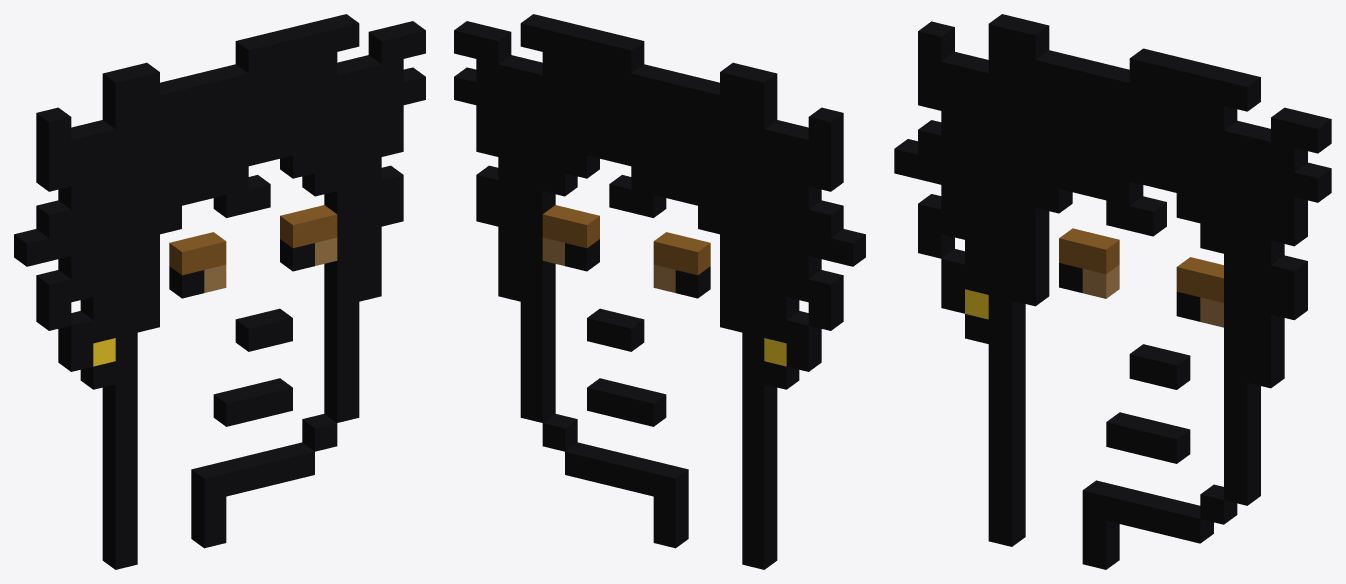
3 renders of one model, left to right at view 1: azimuth 30°, elevation 25°; view 2: azimuth 150°, elevation 25°; view 3: azimuth 330°, elevation 25°, orthographic. The views are drawn at different scales.
Visible parts, largest first — view 1: NoPunk_3403_Mesh; view 2: NoPunk_3403_Mesh; view 3: NoPunk_3403_Mesh.
Boxes of the visible parts, <box> form: NoPunk_3403_Mesh: <box>14,14,425,569</box>; NoPunk_3403_Mesh: <box>454,14,865,569</box>; NoPunk_3403_Mesh: <box>894,14,1331,569</box>.
Size of the model in its own units: 18 by 21 by 1.
